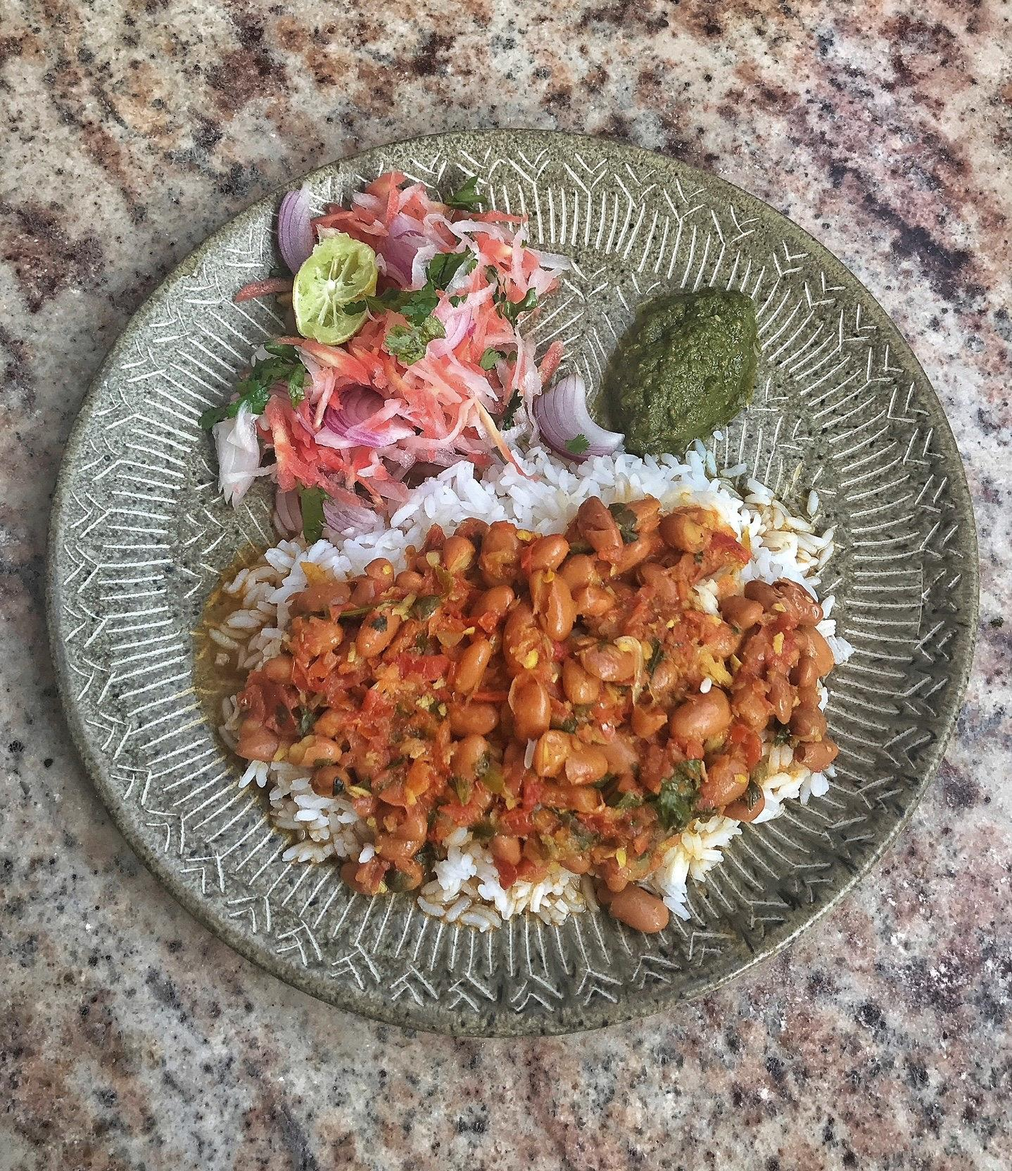rajma: (286, 554, 807, 862)
salad: (233, 198, 575, 476)
